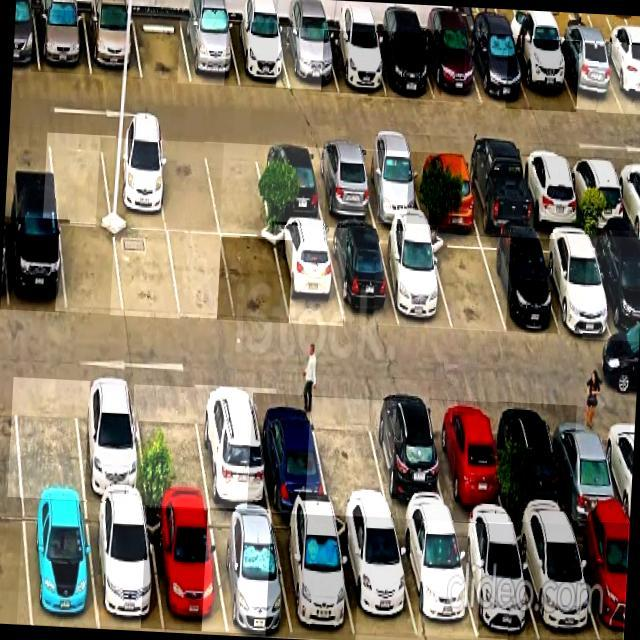empty: (311, 398, 391, 518), (135, 385, 210, 508), (15, 379, 85, 498), (430, 235, 506, 332), (205, 143, 271, 237), (168, 233, 236, 320), (156, 141, 220, 233), (115, 229, 180, 319), (48, 133, 111, 225), (222, 237, 289, 323), (60, 225, 123, 314), (133, 14, 192, 83)
occupied: (208, 511, 292, 636), (272, 514, 355, 640), (147, 507, 228, 633), (367, 400, 452, 520), (335, 516, 417, 639), (454, 522, 539, 640), (394, 522, 478, 639), (514, 524, 598, 640), (430, 401, 508, 523), (88, 503, 163, 629), (24, 501, 97, 628), (549, 406, 626, 526), (195, 389, 270, 511), (253, 393, 329, 512), (499, 402, 571, 524), (75, 380, 146, 503), (536, 234, 614, 334), (378, 230, 452, 329), (481, 237, 558, 331), (327, 228, 399, 324), (274, 226, 343, 324), (572, 524, 630, 640), (100, 137, 167, 231), (5, 217, 65, 312), (588, 235, 640, 342), (462, 154, 533, 232), (256, 146, 324, 223), (553, 39, 623, 112), (411, 152, 478, 227), (310, 148, 376, 223), (359, 149, 425, 223), (518, 155, 583, 230), (509, 38, 576, 110), (567, 156, 629, 231), (467, 33, 529, 107), (421, 31, 482, 103), (228, 21, 290, 89), (372, 33, 434, 100), (181, 17, 240, 86), (325, 30, 386, 95), (84, 12, 142, 77), (35, 9, 91, 75), (280, 27, 337, 90), (600, 44, 640, 114)
